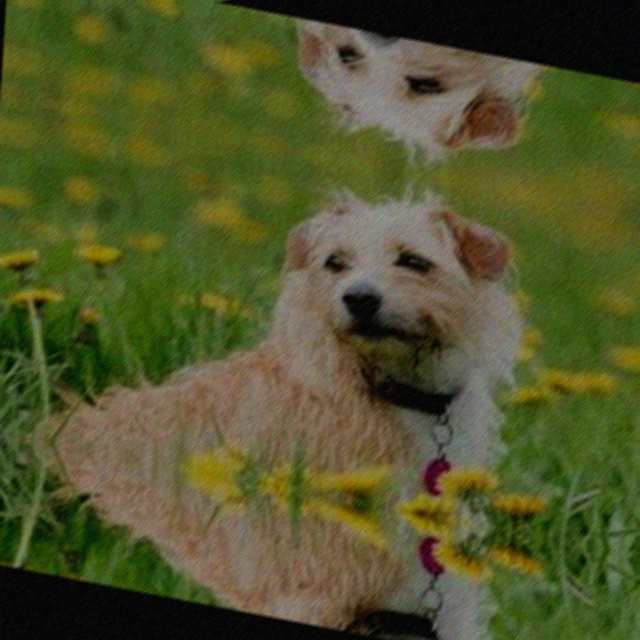dog: (108, 127, 534, 530), (100, 451, 514, 640), (129, 0, 543, 182)
